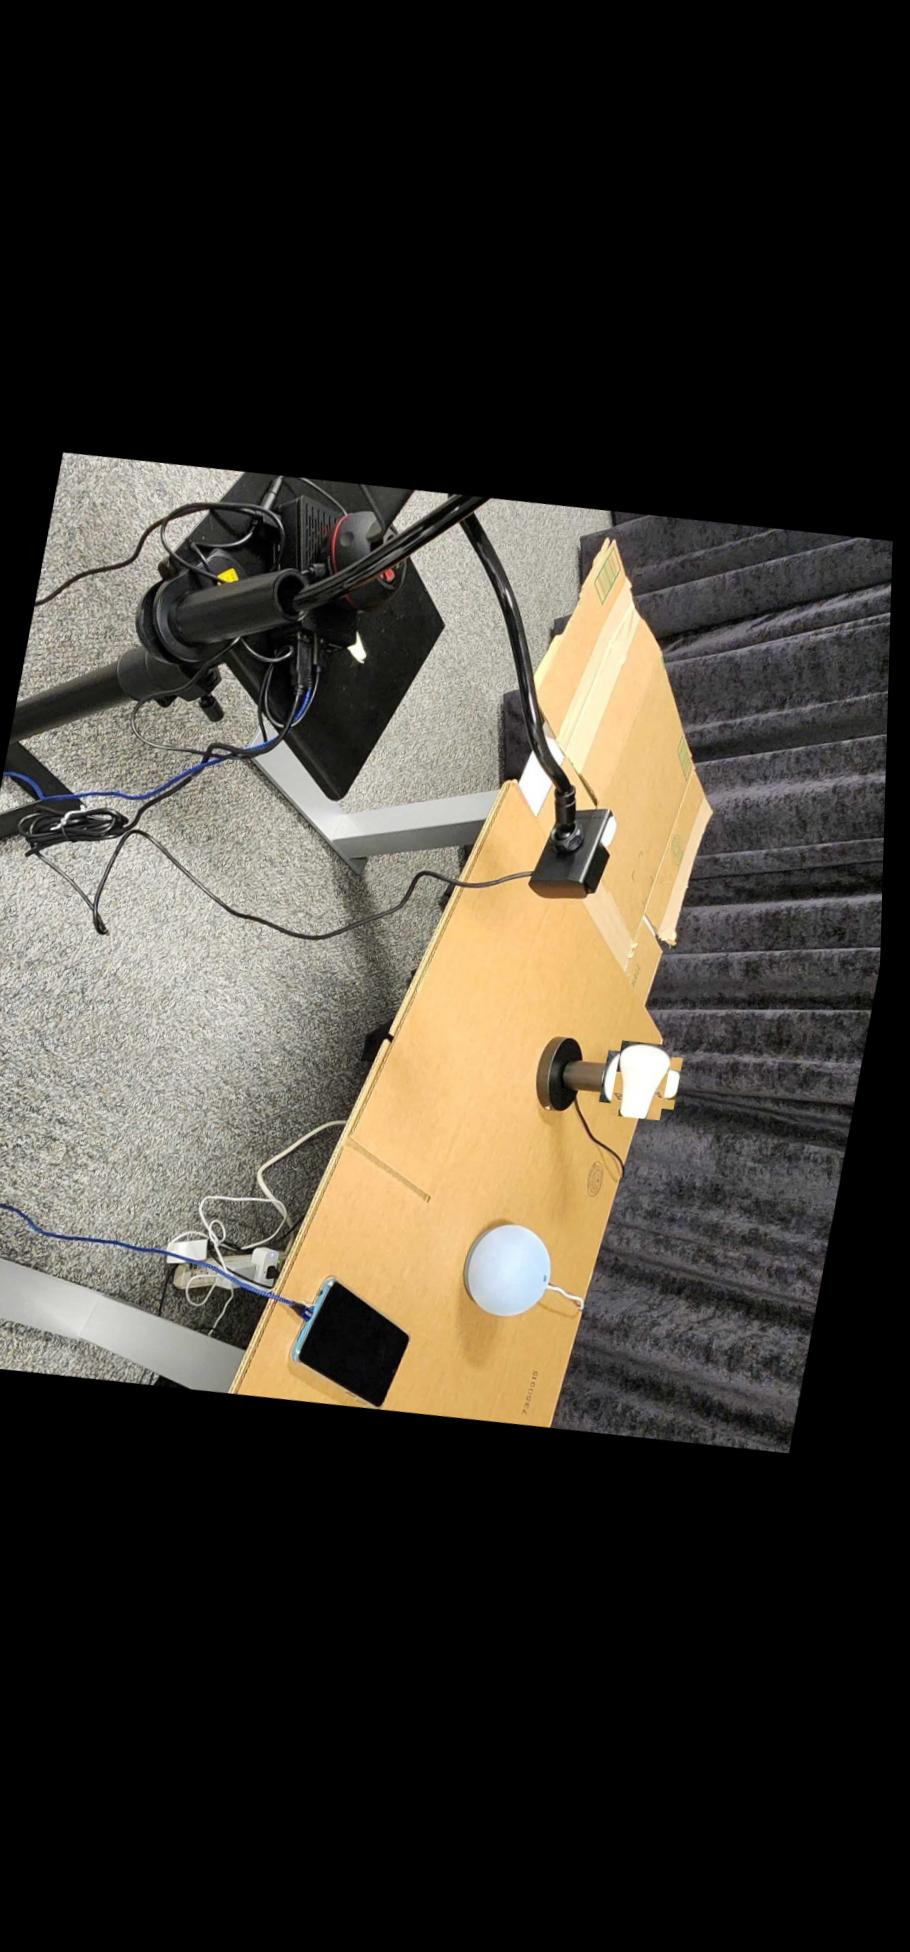Fan: (611, 1048, 686, 1124)
